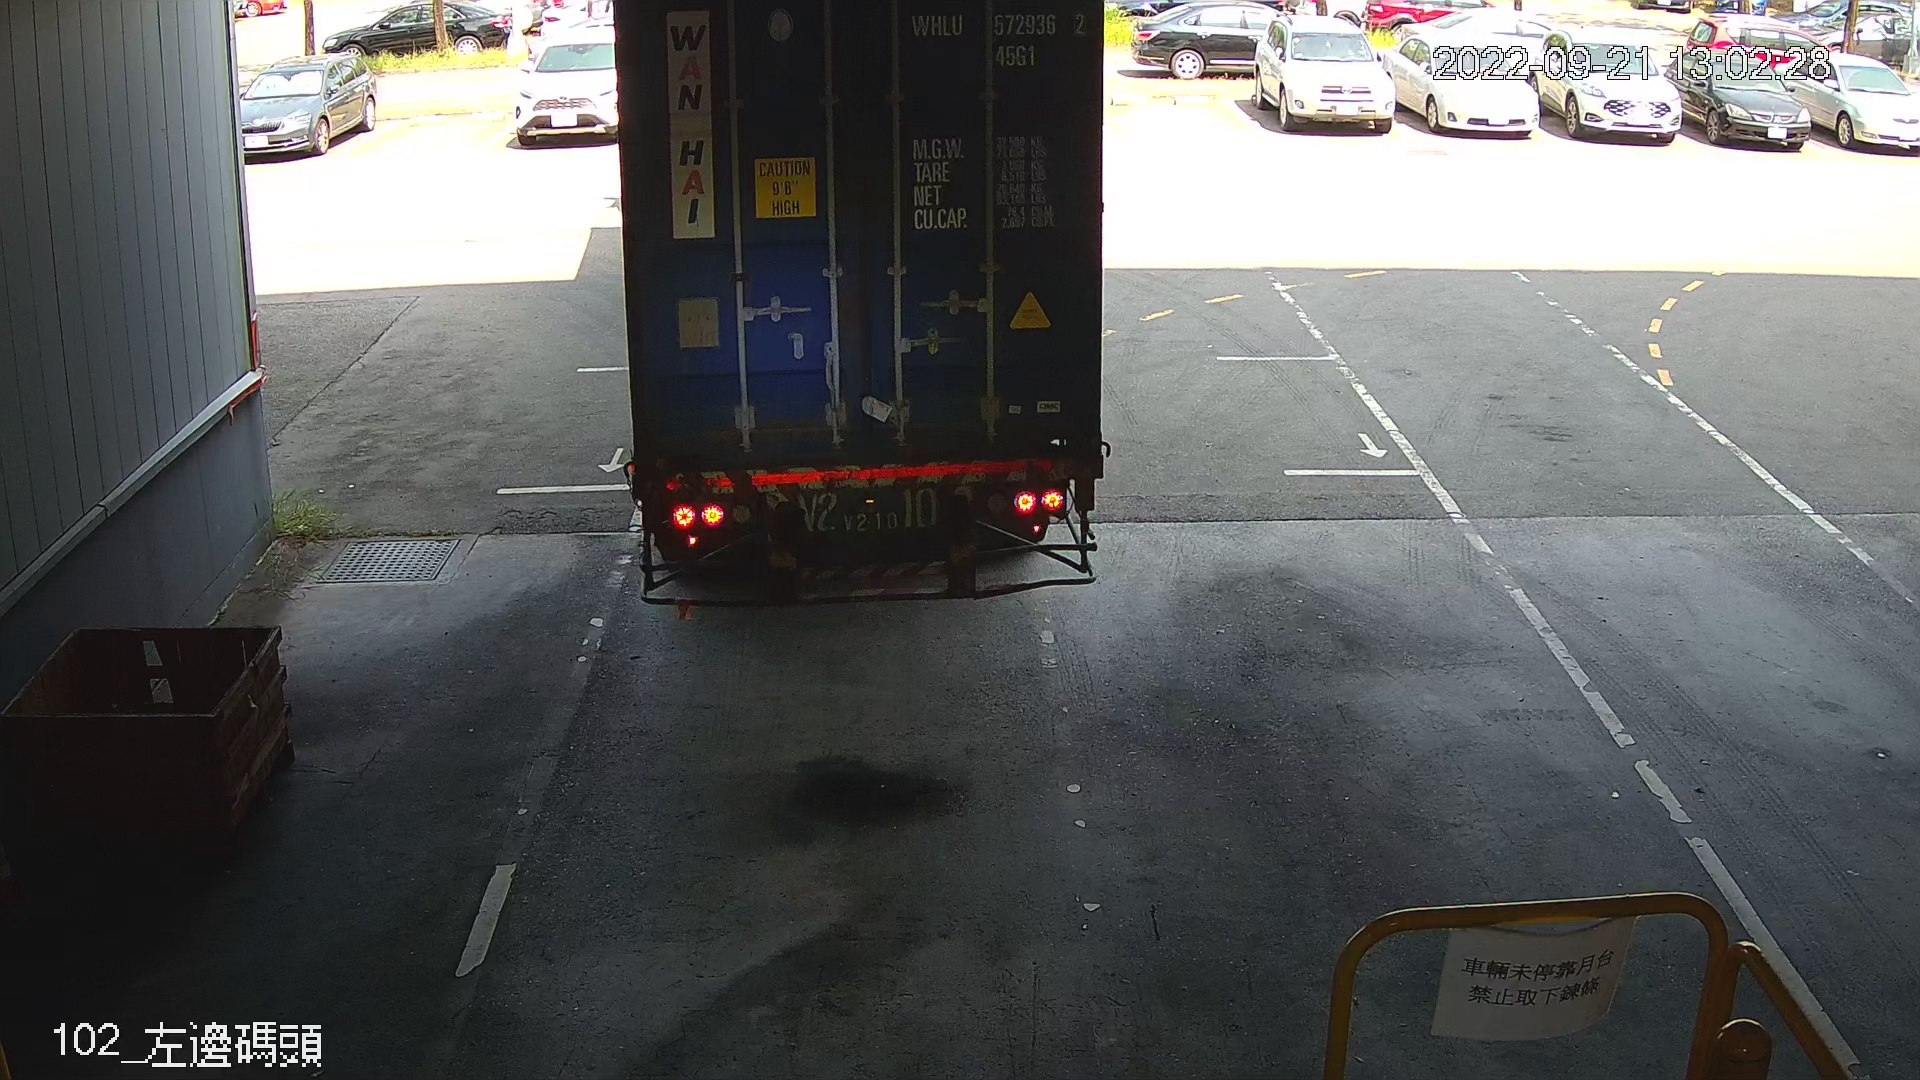container: (906, 3, 1092, 76)
